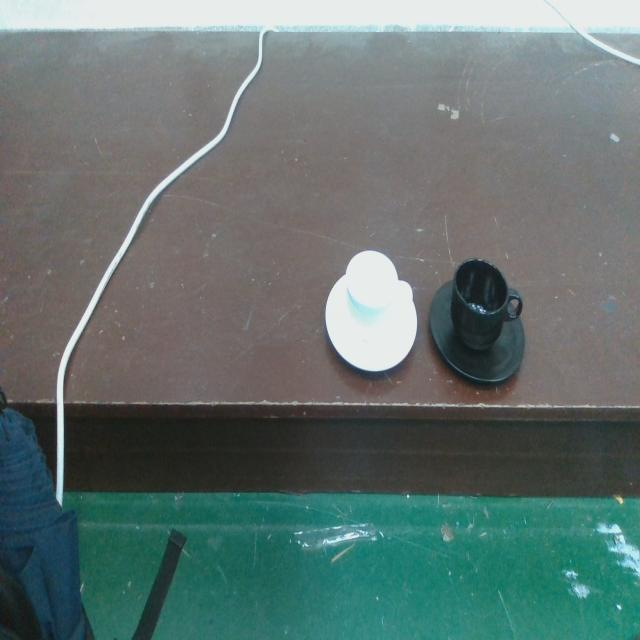black: (426, 254, 527, 390)
white: (322, 246, 420, 378)
